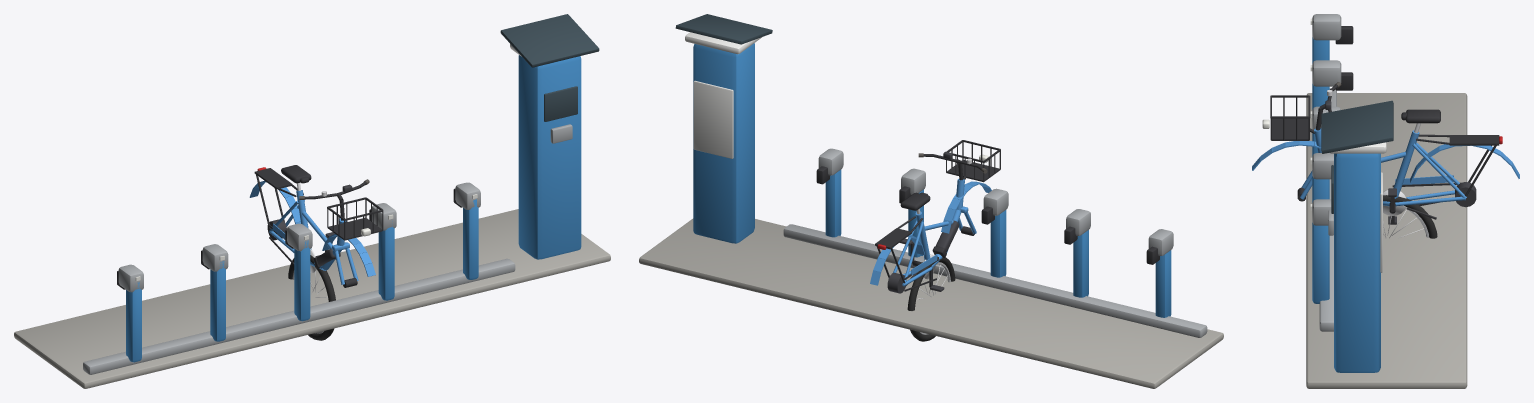
Rendered from ebike.glb.
3 views of the same model, side by side, from view 1: azimuth 30°, elevation 25°; view 2: azimuth 150°, elevation 25°; view 3: azimuth 270°, elevation 25° (orthographic). The views are drawn at different scales.
Parts seen in each view (by area): view 1: ebike_dock, ebike__body, ebike_wheel; view 2: ebike_dock, ebike__body, ebike_wheel; view 3: ebike_dock, ebike__body, ebike_wheel, ebike__crank.
Boxes of the visible parts, bbox=[...] form: ebike_dock: bbox=[14, 14, 610, 388]; ebike__body: bbox=[249, 165, 383, 287]; ebike_wheel: bbox=[288, 255, 335, 340]; ebike_dock: bbox=[639, 14, 1223, 388]; ebike__body: bbox=[870, 140, 1000, 293]; ebike_wheel: bbox=[907, 256, 955, 341]; ebike_dock: bbox=[1306, 14, 1467, 388]; ebike__body: bbox=[1252, 82, 1519, 219]; ebike_wheel: bbox=[1383, 195, 1437, 238]; ebike__crank: bbox=[1383, 188, 1406, 224].
Size of the model in its own units: 4.7 by 2.2 by 1.83.
